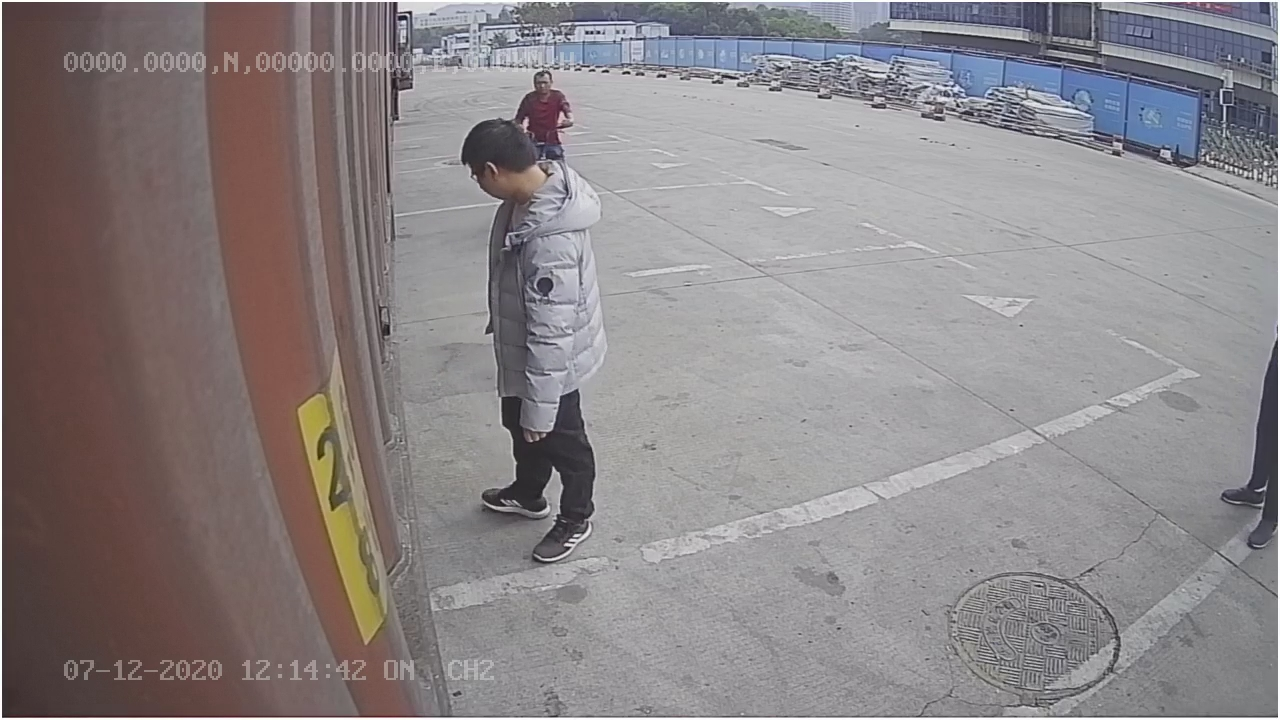person: (453, 115, 609, 564)
